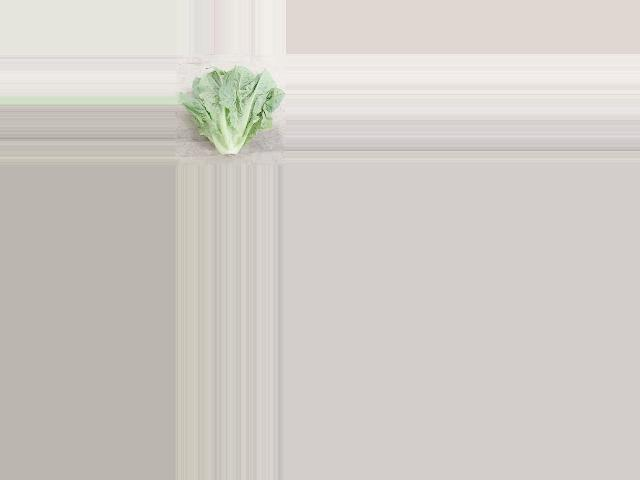lettuce: (178, 63, 281, 161)
